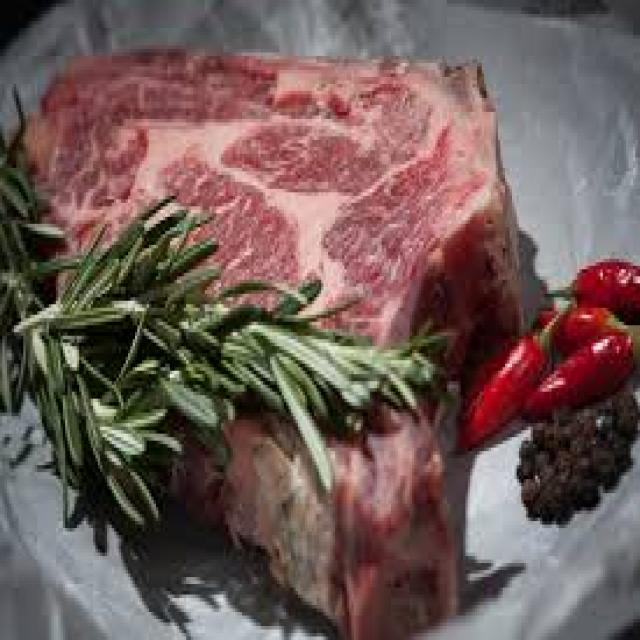Beef: (30, 56, 524, 374), (223, 406, 458, 640)
